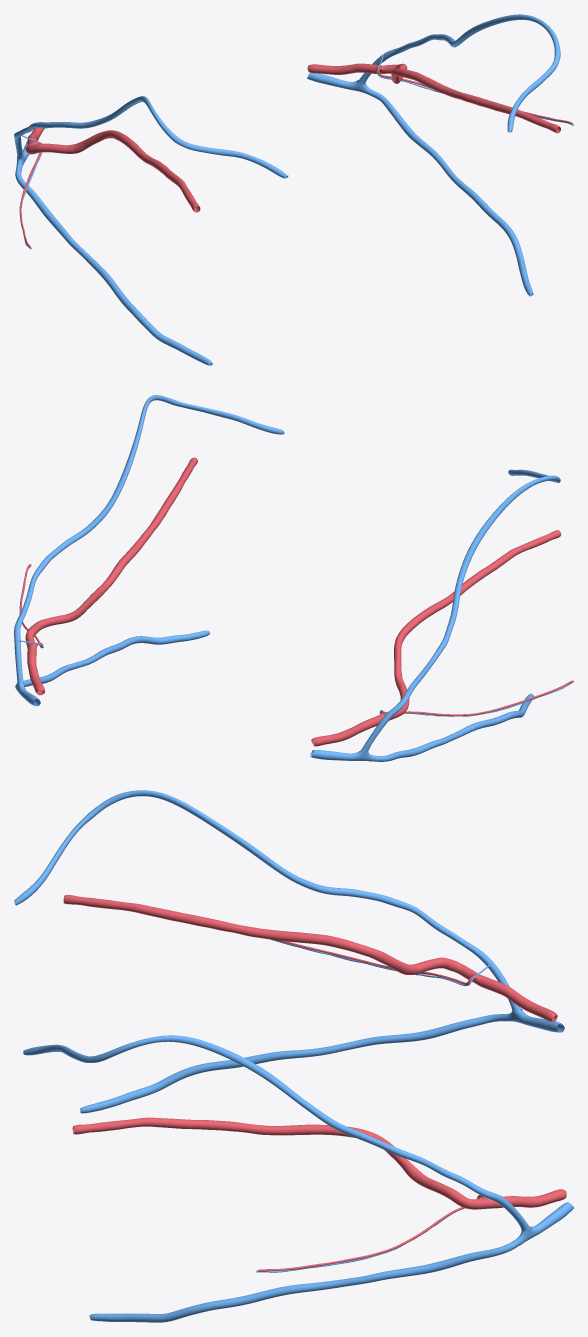
Rendered from VH_M_Blood_Vasculature_Eye.fbx.
3 renders of one model, top to bottom at view 1: azimuth 30°, elevation 25°; view 2: azimuth 150°, elevation 25°; view 3: azimuth 270°, elevation 25°, orthographic. The views are drawn at different scales.
Parts seen in each view (by area): view 1: VH_M_opthalmic_artery_L, VH_M_inferior_ophthalmic_vein_R, VH_M_superior_ophthalmic_vein_R, VH_M_superior_ophthalmic_vein_L, VH_M_opthalmic_artery_R, VH_M_inferior_ophthalmic_vein_L, VH_M_ophthalmic_vein_L; view 2: VH_M_superior_ophthalmic_vein_L, VH_M_opthalmic_artery_R, VH_M_opthalmic_artery_L, VH_M_superior_ophthalmic_vein_R, VH_M_inferior_ophthalmic_vein_L, VH_M_inferior_ophthalmic_vein_R, VH_M_ophthalmic_vein_R; view 3: VH_M_opthalmic_artery_R, VH_M_opthalmic_artery_L, VH_M_superior_ophthalmic_vein_R, VH_M_superior_ophthalmic_vein_L, VH_M_inferior_ophthalmic_vein_L, VH_M_inferior_ophthalmic_vein_R, VH_M_ophthalmic_vein_L.
Part boxes in pixels (x1,y1,x2,y2): VH_M_opthalmic_artery_L: [307, 63, 560, 132]; VH_M_inferior_ophthalmic_vein_R: [15, 165, 212, 365]; VH_M_superior_ophthalmic_vein_R: [14, 96, 288, 178]; VH_M_superior_ophthalmic_vein_L: [357, 14, 560, 132]; VH_M_opthalmic_artery_R: [25, 122, 200, 212]; VH_M_inferior_ophthalmic_vein_L: [365, 89, 533, 296]; VH_M_ophthalmic_vein_L: [307, 72, 369, 93]; VH_M_superior_ophthalmic_vein_L: [14, 395, 284, 684]; VH_M_opthalmic_artery_R: [311, 530, 561, 746]; VH_M_opthalmic_artery_L: [25, 457, 197, 694]; VH_M_superior_ophthalmic_vein_R: [360, 469, 560, 752]; VH_M_inferior_ophthalmic_vein_L: [15, 630, 209, 688]; VH_M_inferior_ophthalmic_vein_R: [372, 693, 533, 761]; VH_M_ophthalmic_vein_R: [310, 750, 373, 761]; VH_M_opthalmic_artery_R: [63, 895, 557, 1021]; VH_M_opthalmic_artery_L: [73, 1117, 566, 1209]; VH_M_superior_ophthalmic_vein_R: [14, 790, 521, 1013]; VH_M_superior_ophthalmic_vein_L: [23, 1035, 530, 1231]; VH_M_inferior_ophthalmic_vein_L: [89, 1238, 520, 1322]; VH_M_inferior_ophthalmic_vein_R: [80, 1013, 510, 1113]; VH_M_ophthalmic_vein_L: [518, 1202, 573, 1244].
Bounding box in the file's own units: 7.57 × 3.48 × 5.54.
